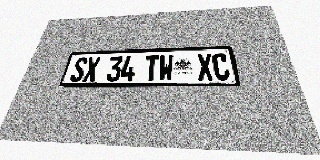3: (106, 56, 123, 81)
4: (119, 56, 136, 81)
C: (212, 53, 231, 80)
S: (69, 57, 88, 82)
T: (143, 55, 159, 81)
W: (158, 55, 173, 81)
X: (82, 57, 101, 82), (197, 53, 214, 80)
